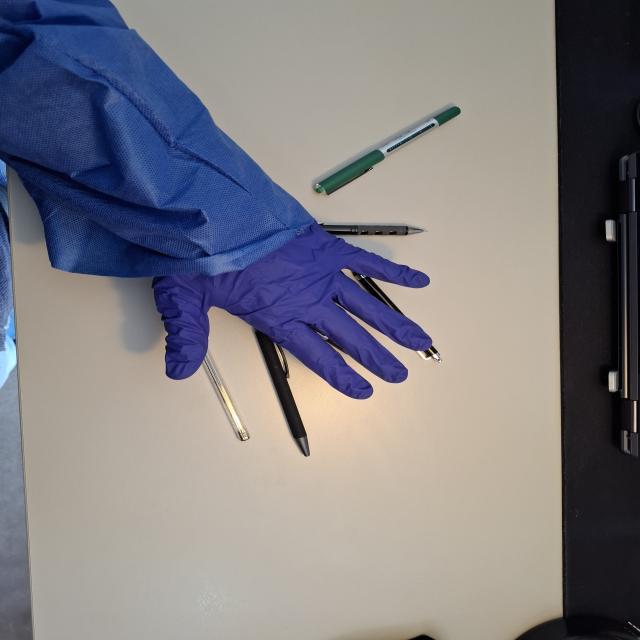glove_on: (148, 214, 434, 396)
